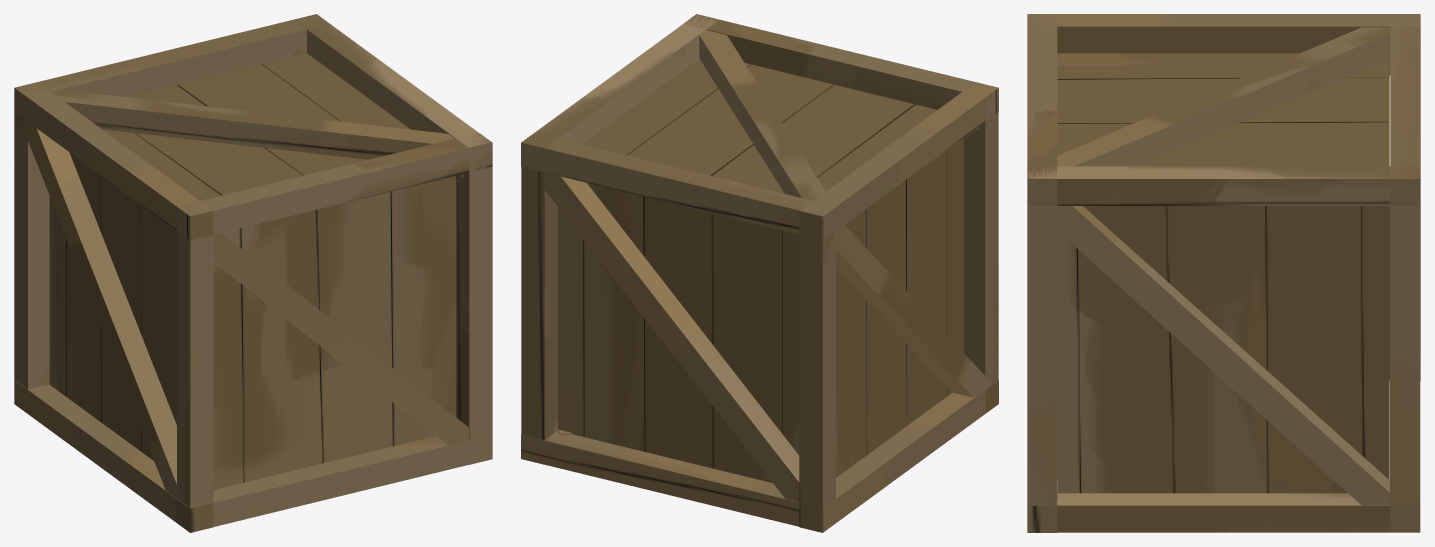
File: Crate.fbx
3 views of the same model, side by side, from view 1: azimuth 30°, elevation 25°; view 2: azimuth 150°, elevation 25°; view 3: azimuth 270°, elevation 25° (orthographic). The views are drawn at different scales.
Visible parts, largest first — view 1: Cube; view 2: Cube; view 3: Cube.
Boxes of the visible parts, x1=… form: Cube: x1=14, y1=14, x2=492, y2=532; Cube: x1=521, y1=14, x2=998, y2=532; Cube: x1=1027, y1=14, x2=1420, y2=532.
Size of the model in its own units: 235 by 235 by 237.
